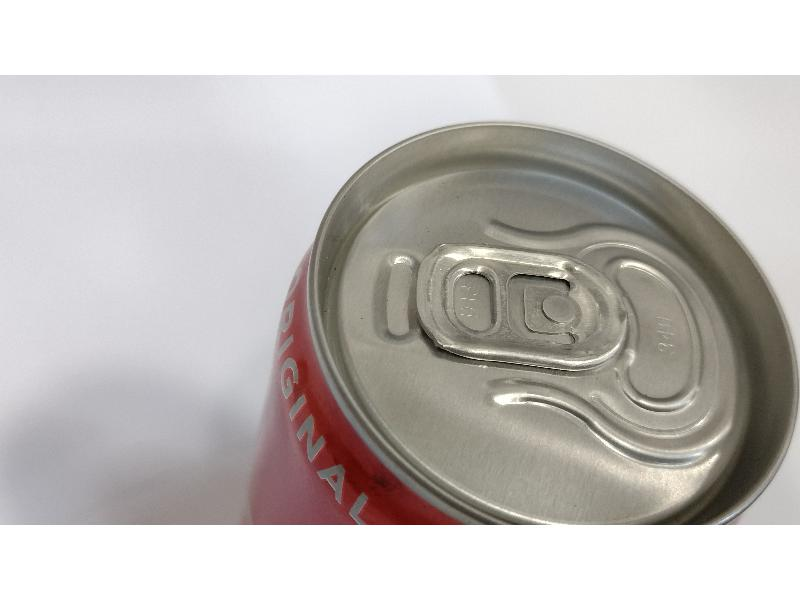can: (245, 115, 799, 524)
